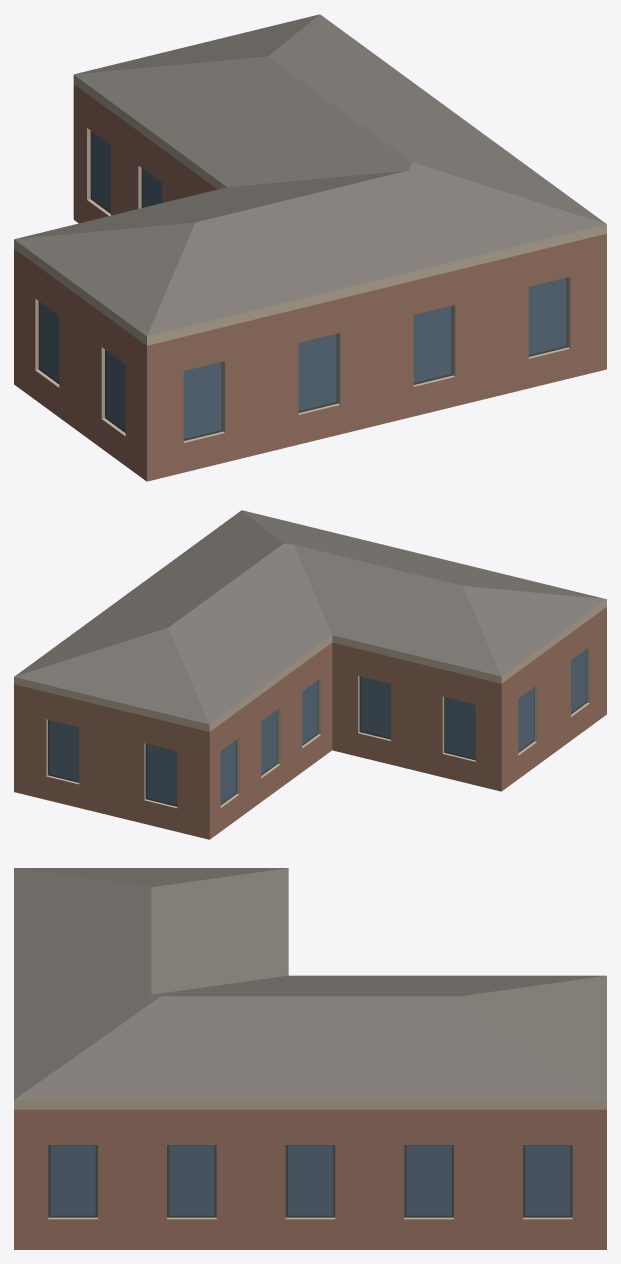
Rendered from dc-au-former-child-development-center.detail.glb.
The picture shows the model from 3 angles, top to bottom: view 1: azimuth 30°, elevation 25°; view 2: azimuth 150°, elevation 25°; view 3: azimuth 270°, elevation 25°; orthographic projection. The views are drawn at different scales.
Parts seen in each view (by area): view 1: Former Child Development Center; view 2: Former Child Development Center; view 3: Former Child Development Center.
Part boxes in pixels (bbox=[...]): Former Child Development Center: bbox=[14, 14, 606, 481]; Former Child Development Center: bbox=[14, 510, 606, 839]; Former Child Development Center: bbox=[14, 868, 606, 1249].
Size of the model in its own units: 16.59 by 6.38 by 17.92.
